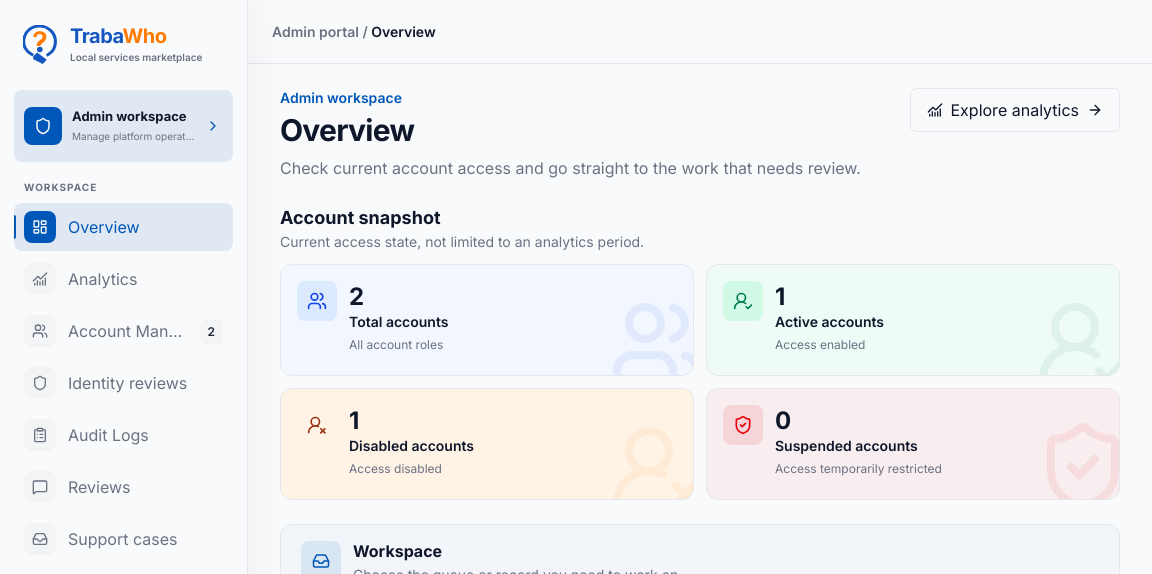
Test case: AdminDashboard › navigates existing screens and loads audit history
This screenshot has width=1152, height=574.
Click the button "Account Management 2": (124, 331) [14,307,233,355]
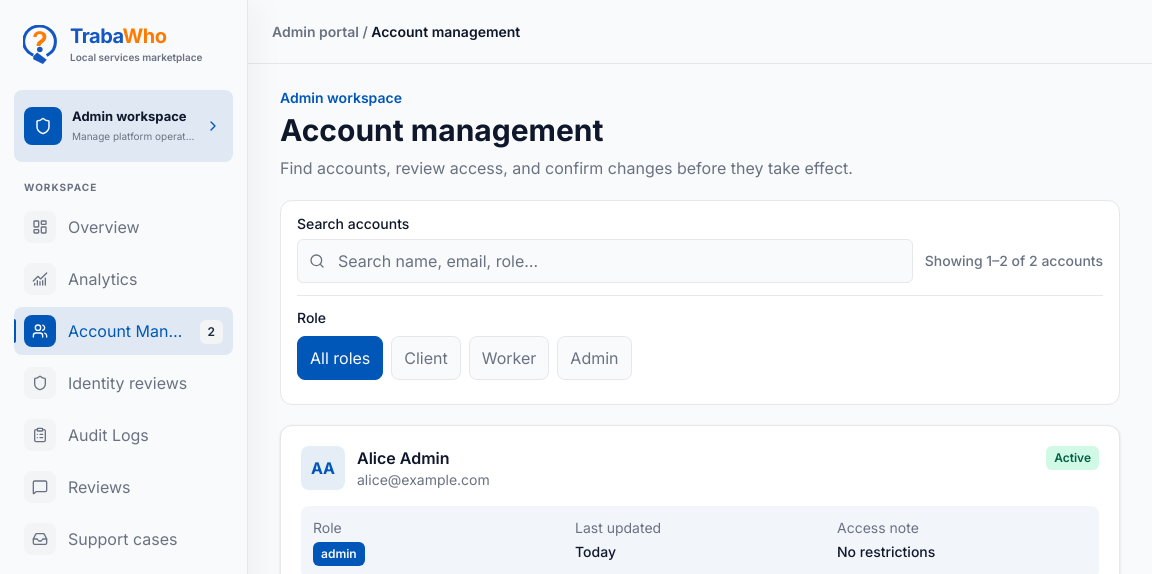
Expected: the search field labelled "Search accounts" is shown, [297,239,913,283]
Expected: the heading "Alice Admin" is shown, [357,448,450,468]
Click the button "Audit Logs": (124, 435) [14,411,233,459]
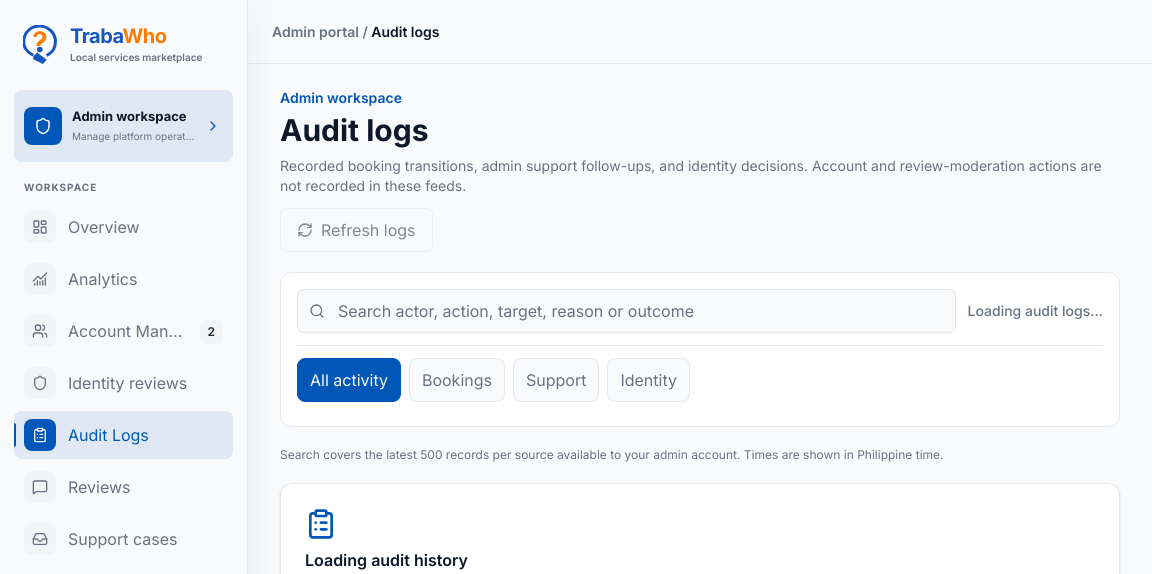
Expected: the heading "Audit logs" is shown, [280,112,428,148]
Click the button "Reviews": (124, 487) [14,463,233,511]
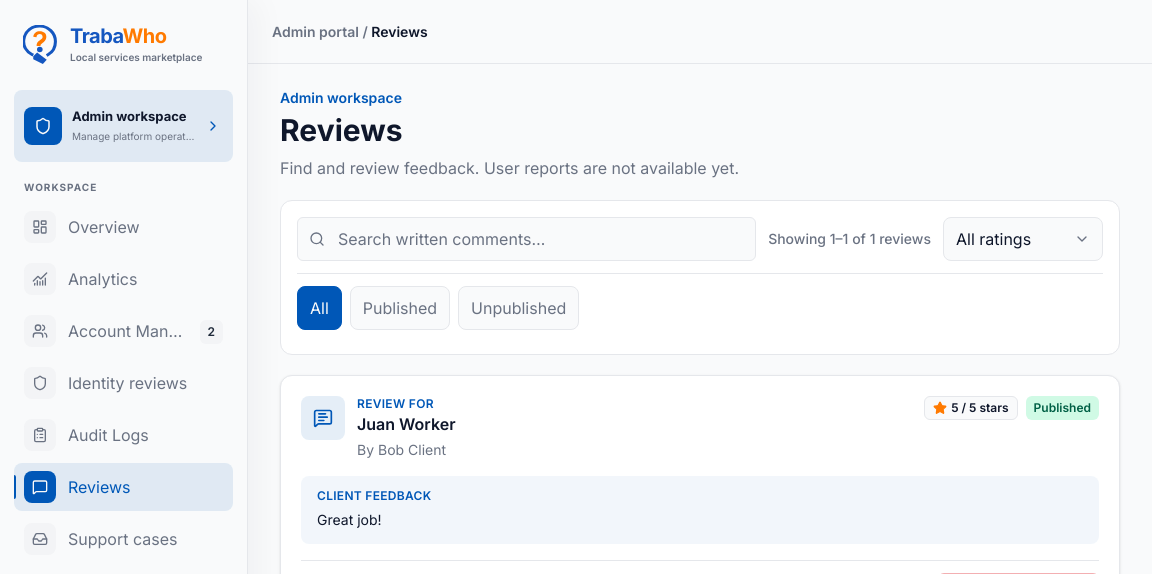
Expected: the text "Great job!" is shown, [317,511,382,528]
